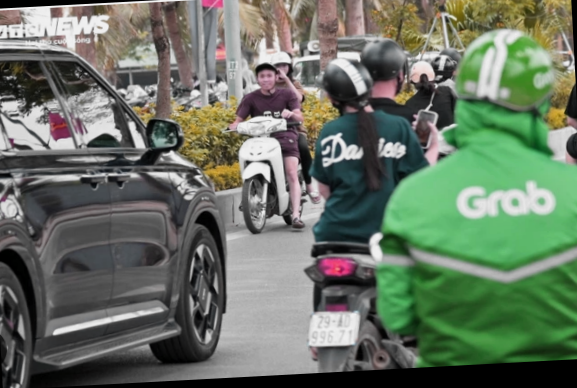Bien-so: (297, 311, 360, 359)
